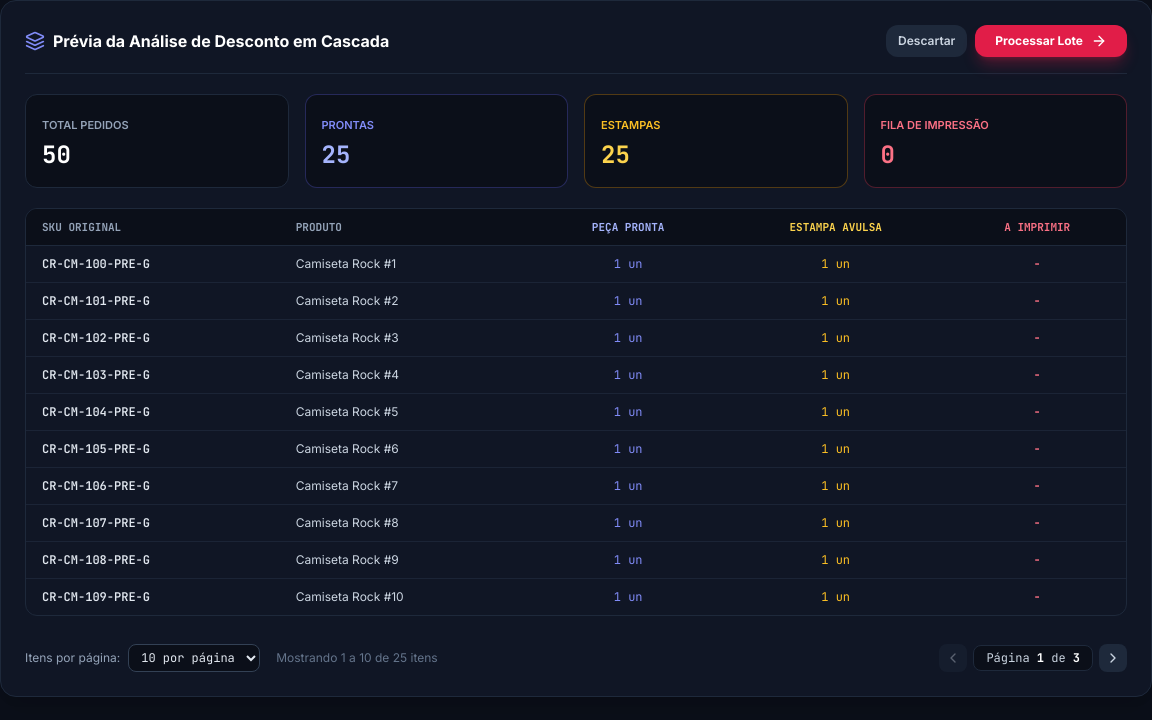
it: ProcessadorPedidosView & Batch Processing Tests › ProcessadorPreviewCard renders without Qtd Total column and handles pagination
Expected: the column heading "SKU Original" is shown, [26,209,280,246]
Expected: the column heading "Produto" is shown, [280,209,533,246]
Next page button
Click the button named "Próxima página": [1113, 658] box [1099,644,1127,672]
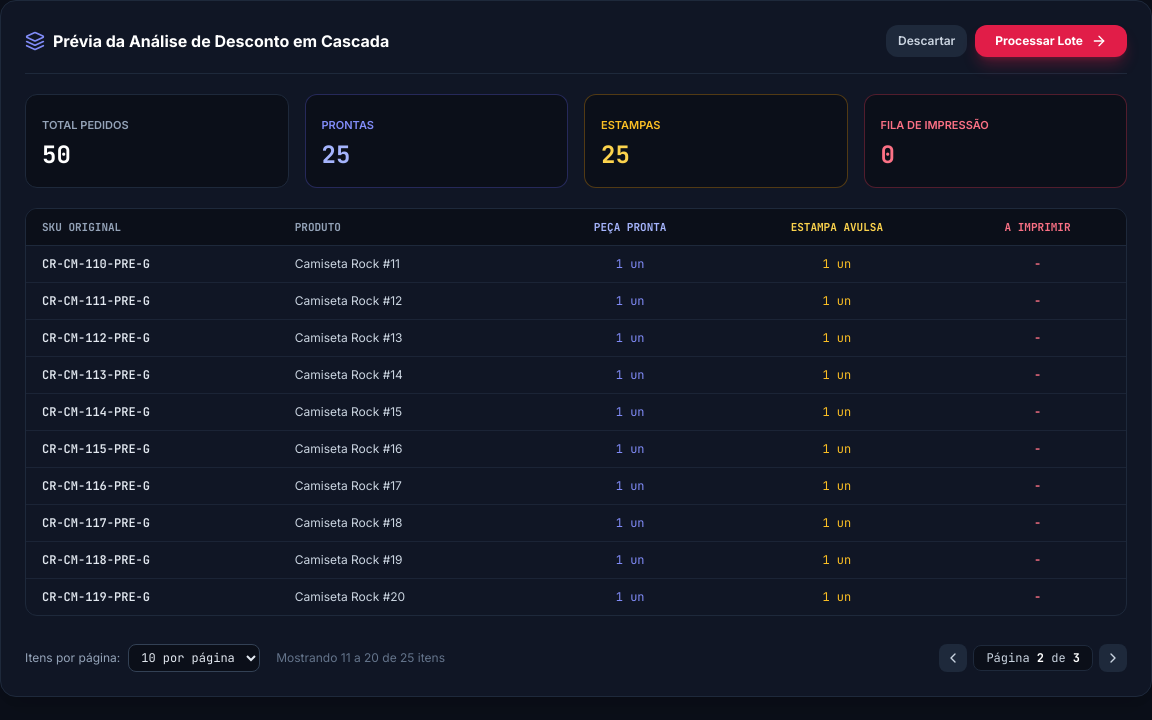
Expected: the text "Mostrando 11 a 20 de 25 itens" is shown, [276,650,445,666]
Change page size to 30
Select "30 por página" in the dropdown named "Selecionar itens por página na prévia": [194, 658] box [128,644,260,672]
(page scrolled)
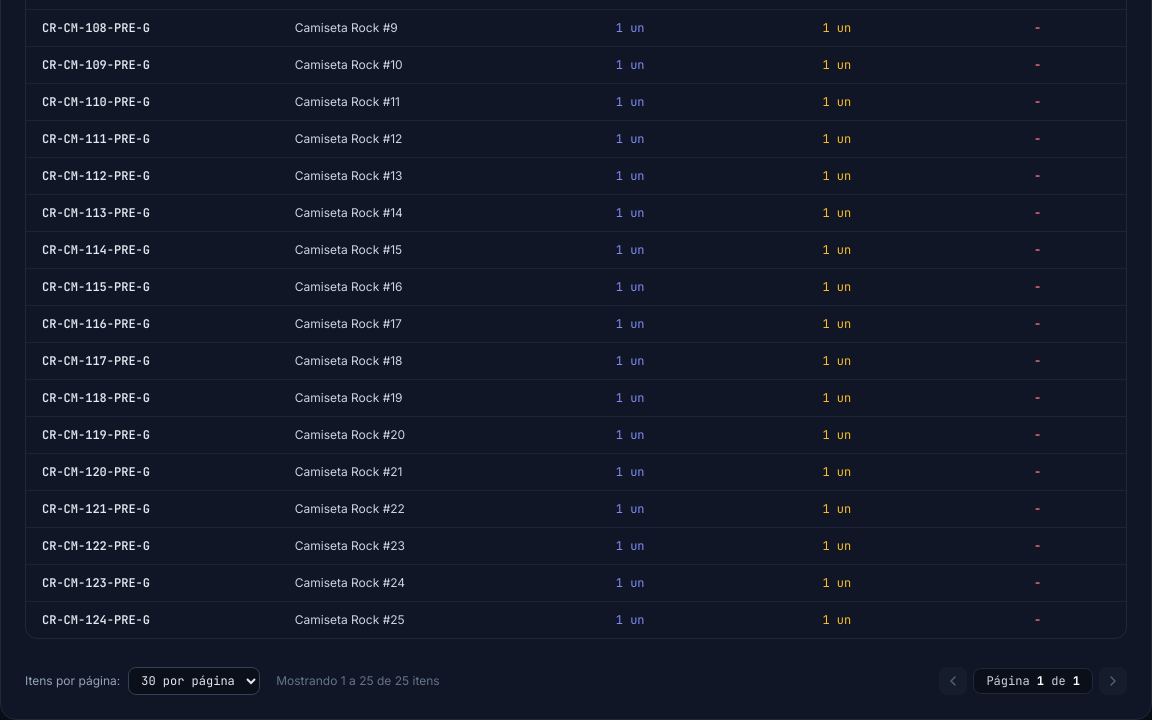
Expected: the text "Mostrando 1 a 25 de 25 itens" is shown, [276,673,440,689]
